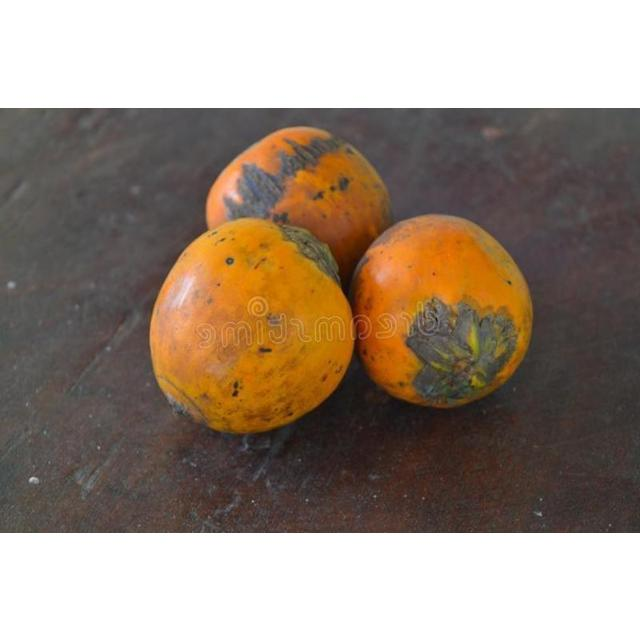good: (149, 218, 354, 435), (346, 213, 534, 411), (206, 126, 394, 297)
